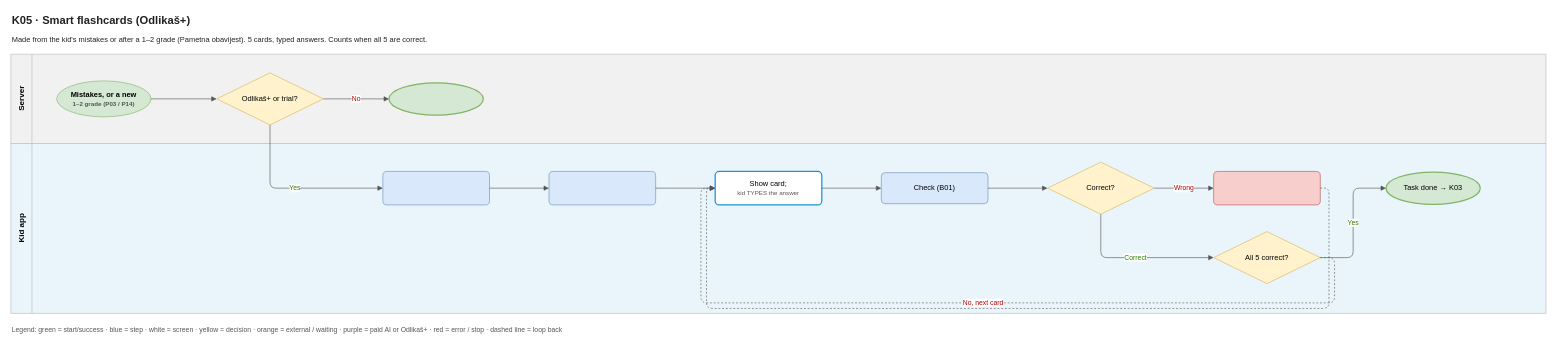
Image size: 1557x346. Some labels were removed from this diagram. The shapes that lost their labels are listed below. From the top down, each one's centre as x and y in pixels, then its label:
pixel 436 98: No flashcards
pixel 435 188: Next daily plan gets 5-flashcard task (K02)
pixel 602 188: 5 cards for that subject (kind = flashcard)
pixel 1266 188: Card returns later with new numbers
